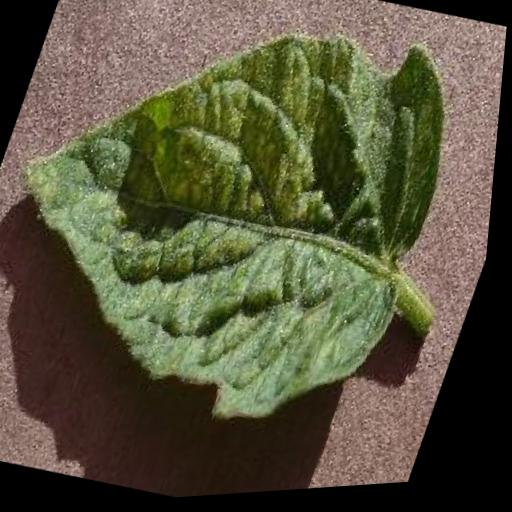Spider Mites: (0, 0, 492, 471)
